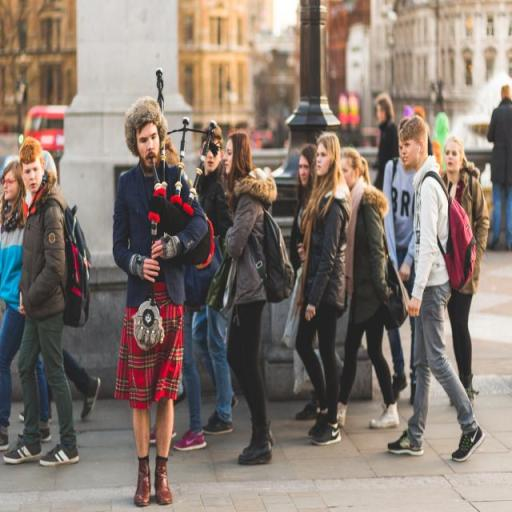person: (111, 98, 205, 507), (391, 118, 487, 461), (2, 138, 84, 467), (223, 133, 278, 466), (337, 152, 401, 431), (300, 135, 353, 444), (1, 161, 53, 443), (290, 143, 343, 418), (439, 142, 492, 414), (196, 135, 235, 438), (385, 119, 420, 405), (486, 88, 512, 256)
